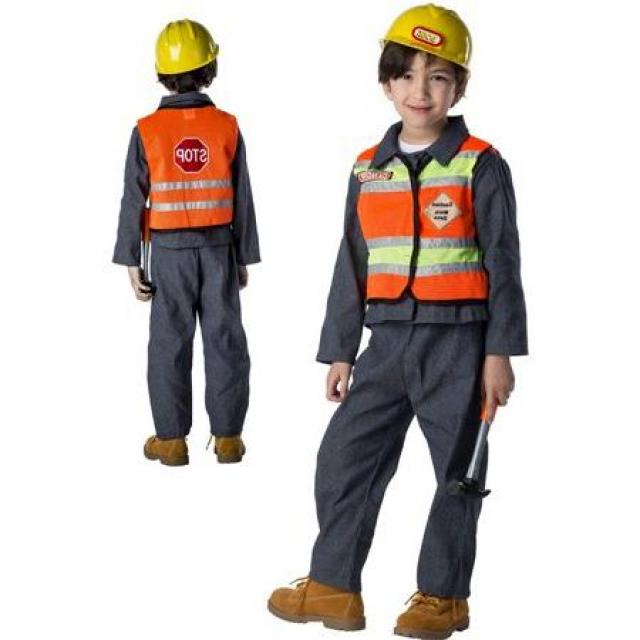Reflective-Jacket: (348, 132, 495, 317), (134, 101, 243, 235)
Safety-Helmet: (377, 3, 479, 74), (149, 15, 225, 80)
